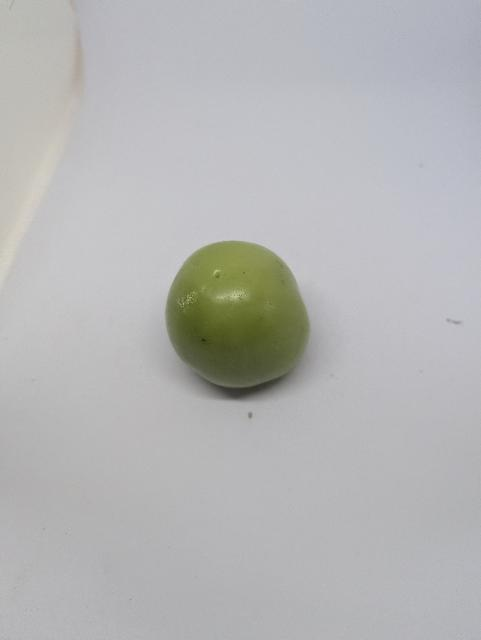green: (158, 227, 326, 398)
